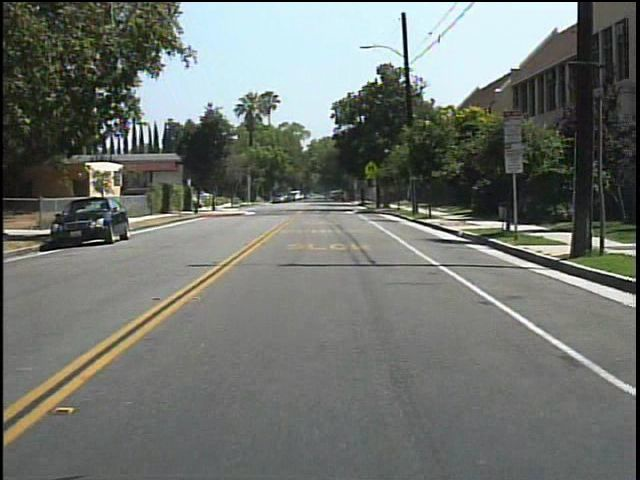person: (319, 188, 334, 206)
